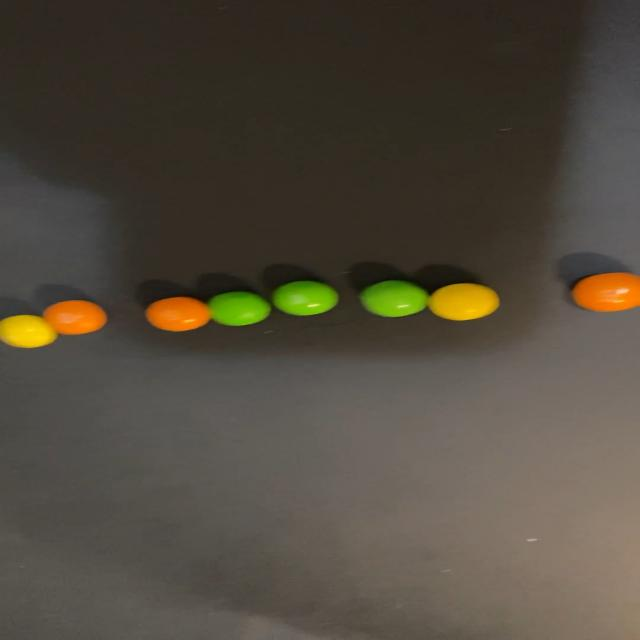smartie: (428, 283, 500, 320), (573, 273, 640, 312), (359, 280, 428, 317), (271, 281, 338, 316), (206, 291, 270, 326), (145, 297, 209, 332), (41, 300, 105, 334), (0, 315, 56, 348)
